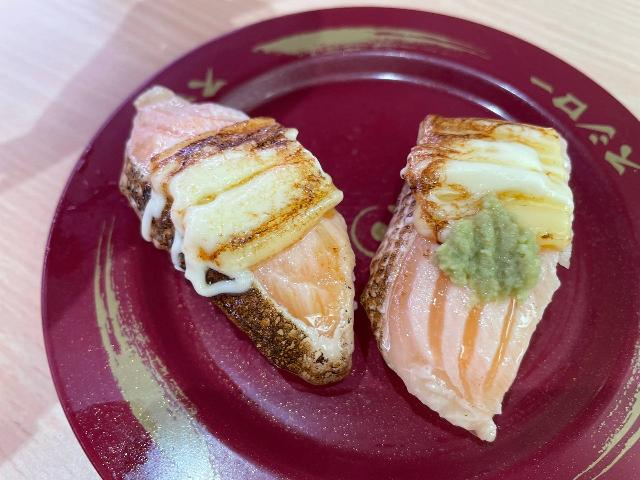janred: (101, 45, 640, 444)
